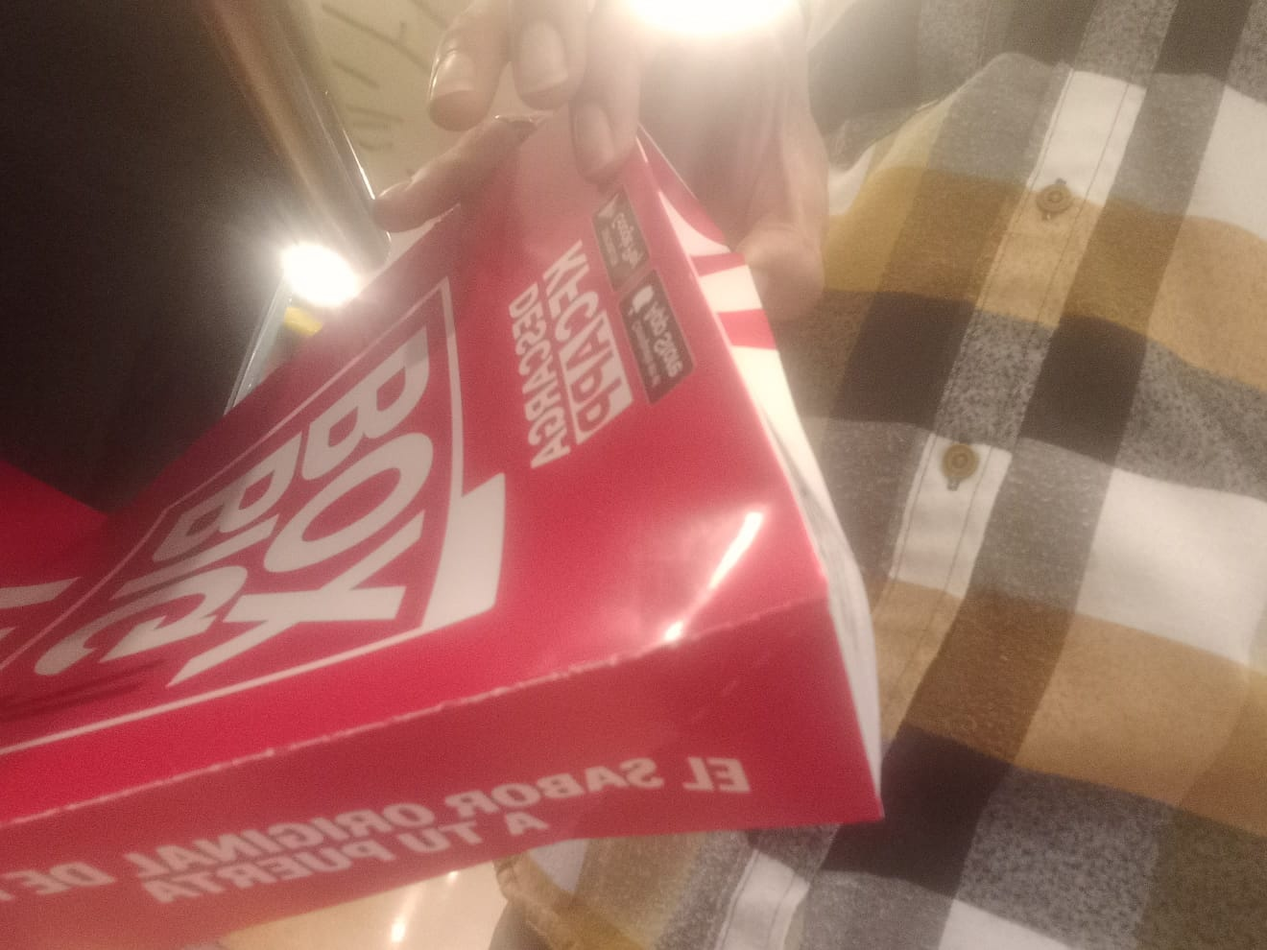Carton: (0, 107, 883, 950)
